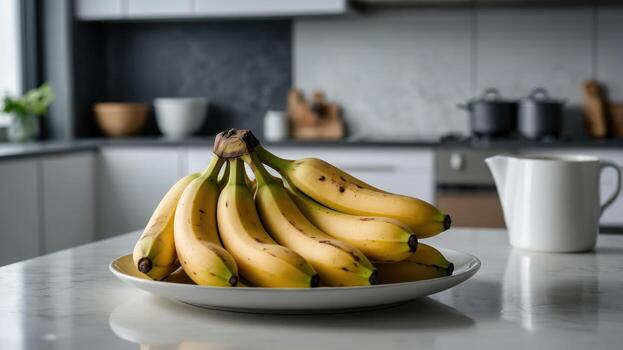banana: (130, 132, 457, 288)
